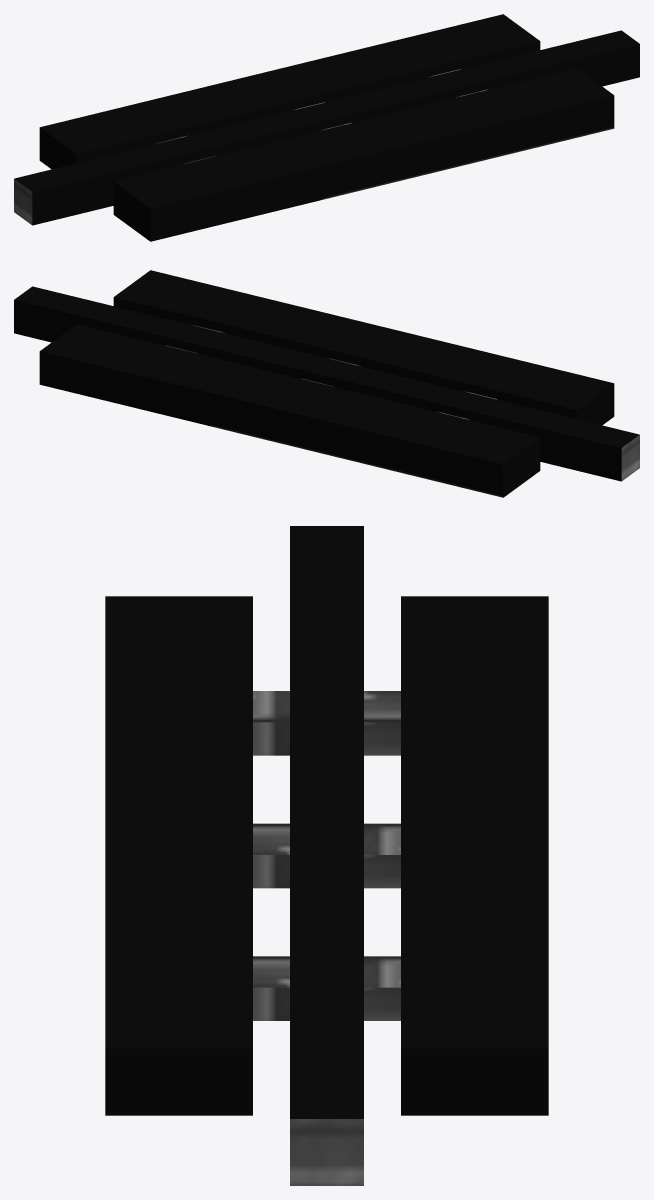
The model's file is flotation_cell_blade.obj.
The picture shows the model from 3 angles, top to bottom: view 1: azimuth 30°, elevation 25°; view 2: azimuth 150°, elevation 25°; view 3: azimuth 270°, elevation 25°; orthographic projection. The views are drawn at different scales.
Visible parts, largest first — view 1: mesh; view 2: mesh; view 3: mesh.
Boxes of the visible parts, x1=… form: mesh: x1=14, y1=14, x2=639, y2=241; mesh: x1=14, y1=270, x2=639, y2=497; mesh: x1=105, y1=526, x2=548, y2=1185.
Size of the model in its own units: 4.75 by 0.25 by 1.5.
